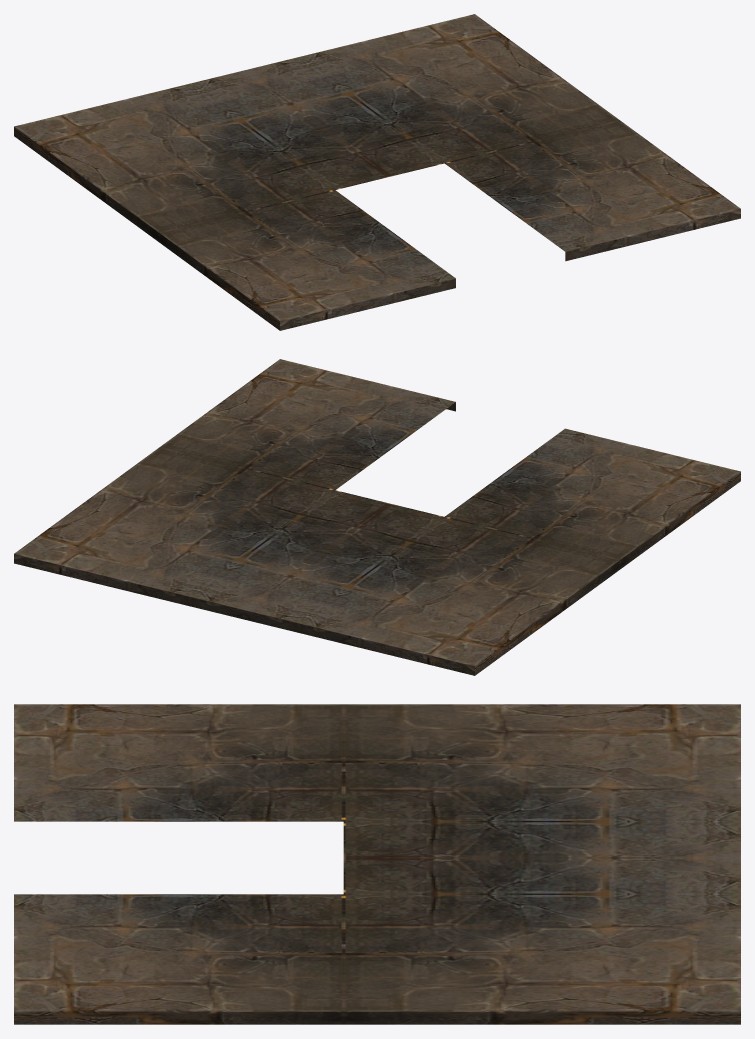
Rendered from Pantheon_Level03_L.FBX.
The picture shows the model from 3 angles, top to bottom: view 1: azimuth 30°, elevation 25°; view 2: azimuth 150°, elevation 25°; view 3: azimuth 270°, elevation 25°; orthographic projection. The views are drawn at different scales.
Visible parts, largest first — view 1: Pantheon_Level03_L; view 2: Pantheon_Level03_L; view 3: Pantheon_Level03_L.
Part boxes in pixels (<box>): Pantheon_Level03_L: <box>14,14,740,330</box>; Pantheon_Level03_L: <box>14,359,740,675</box>; Pantheon_Level03_L: <box>14,704,740,1024</box>.
Size of the model in its own units: 500 by 10 by 500.
